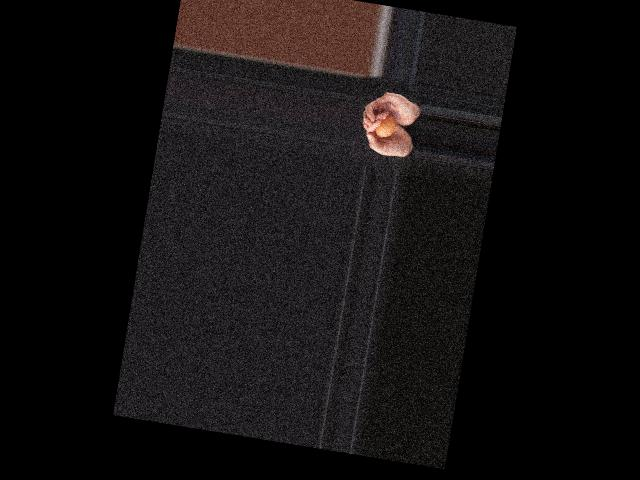egg: (374, 112, 398, 139)
